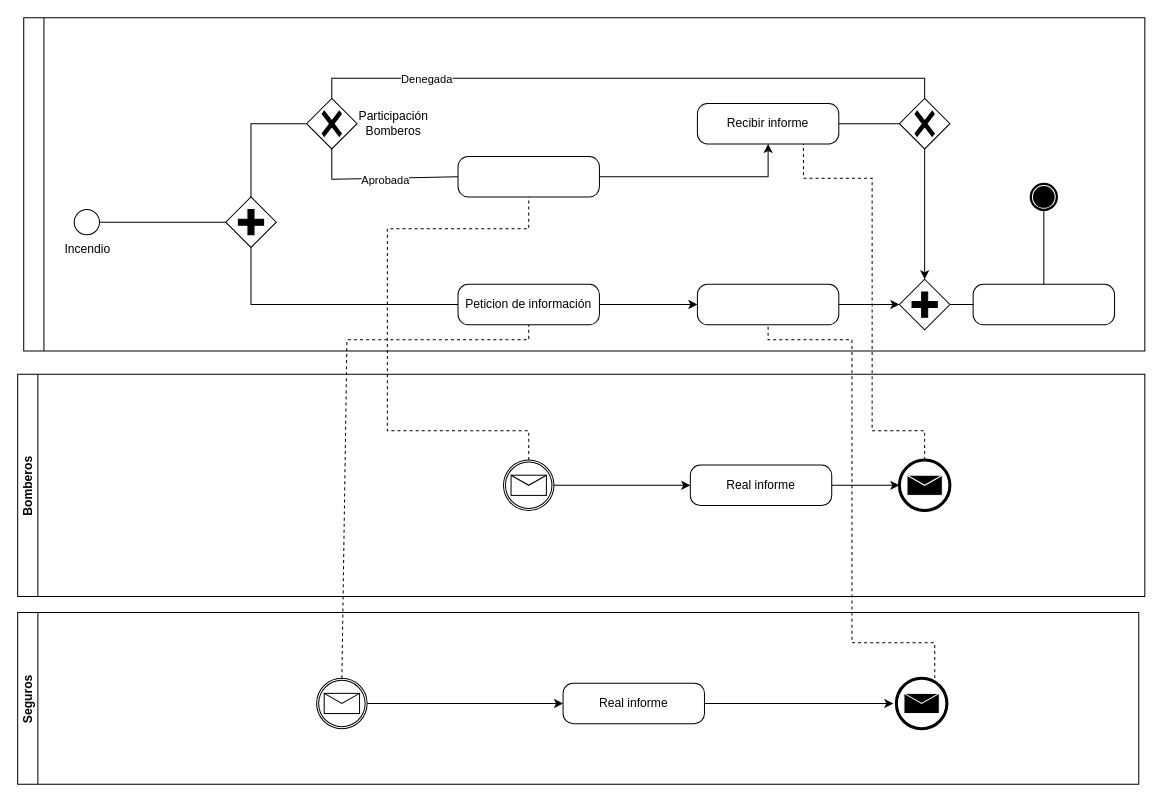
Some shapes in this 1163 by 802 pixel diagram are drawn without their labels. Each missing label, with the centre of its shape:
"Generar informe" belongs at point 1043,304.
"Petición de informe" belongs at point 528,176.
"Recibir seguro" belongs at point 767,304.
